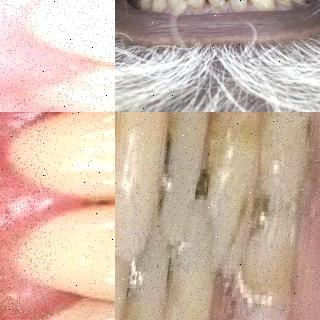Gum Swelling: (0, 112, 78, 320), (0, 0, 78, 112)
calculus: (241, 253, 303, 317), (279, 112, 320, 135)
plaque: (161, 0, 185, 16), (208, 0, 224, 13)
stains: (186, 0, 208, 15), (275, 0, 291, 6)
